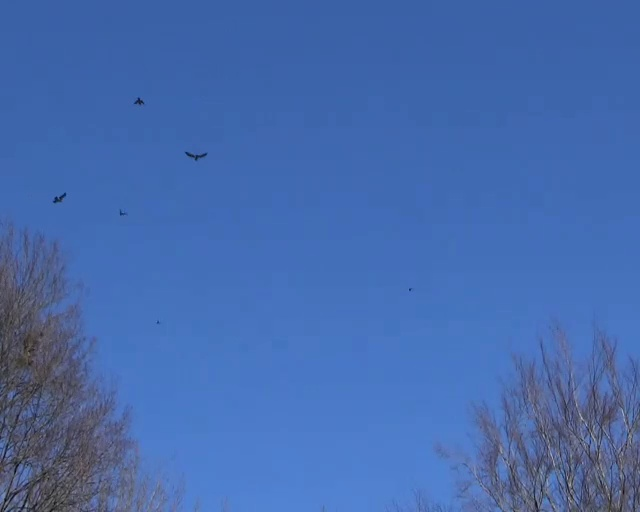BIRD: (53, 192, 67, 203)
